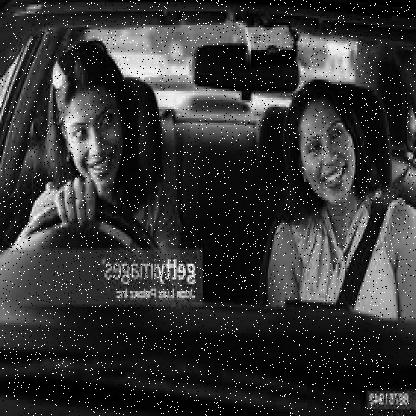no_seatbelt: (19, 33, 150, 249)
seatbelt: (278, 80, 416, 320)
